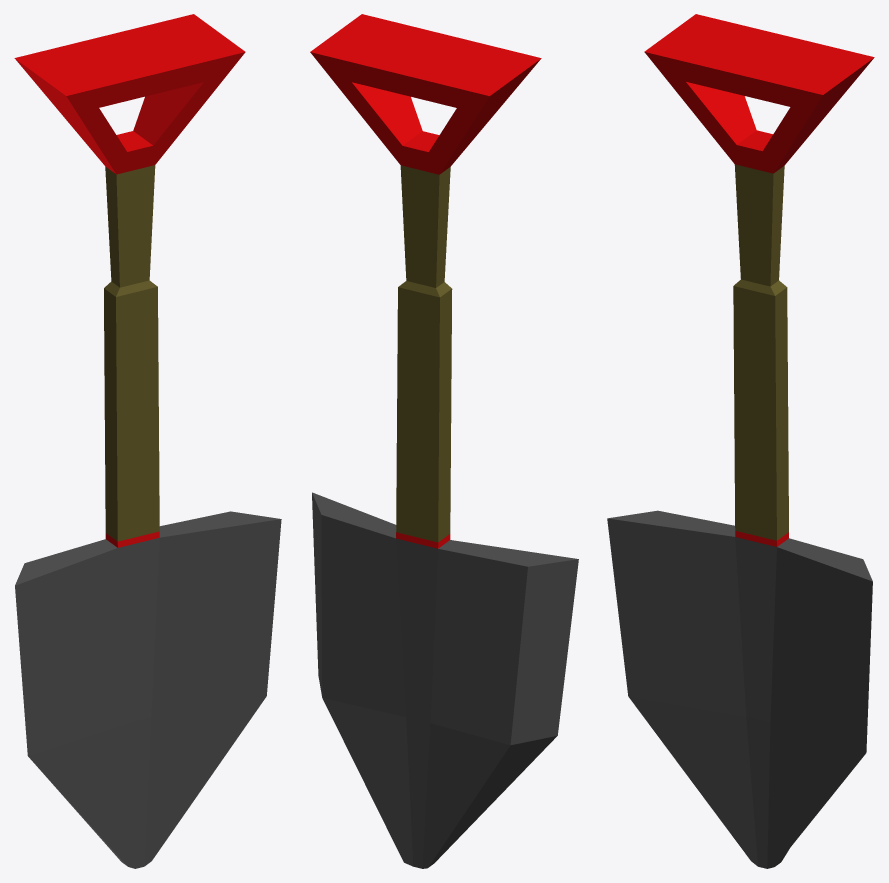
Rendered from PALA.fbx.
3 renders of one model, left to right at view 1: azimuth 30°, elevation 25°; view 2: azimuth 150°, elevation 25°; view 3: azimuth 330°, elevation 25°, orthographic.
Visible parts, largest first — view 1: Cube.002; view 2: Cube.002; view 3: Cube.002.
Boxes of the visible parts, x1,y1,x2,y2 form: Cube.002: [14, 14, 281, 868]; Cube.002: [310, 14, 578, 868]; Cube.002: [607, 14, 874, 868].
Bounding box in the file's own units: 34.06 × 11.48 × 99.13.
